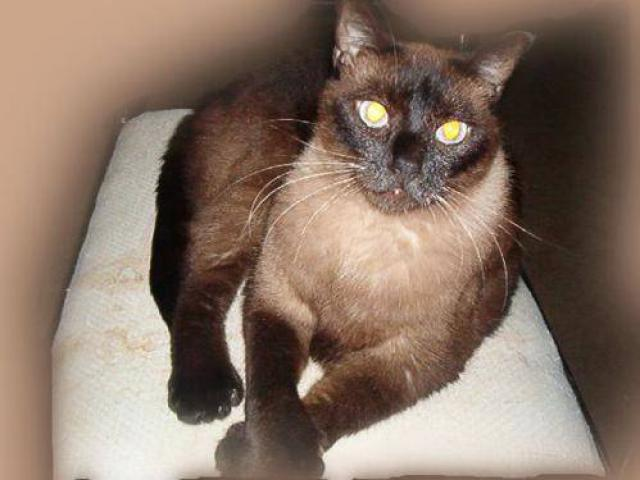cat: (155, 1, 560, 468)
